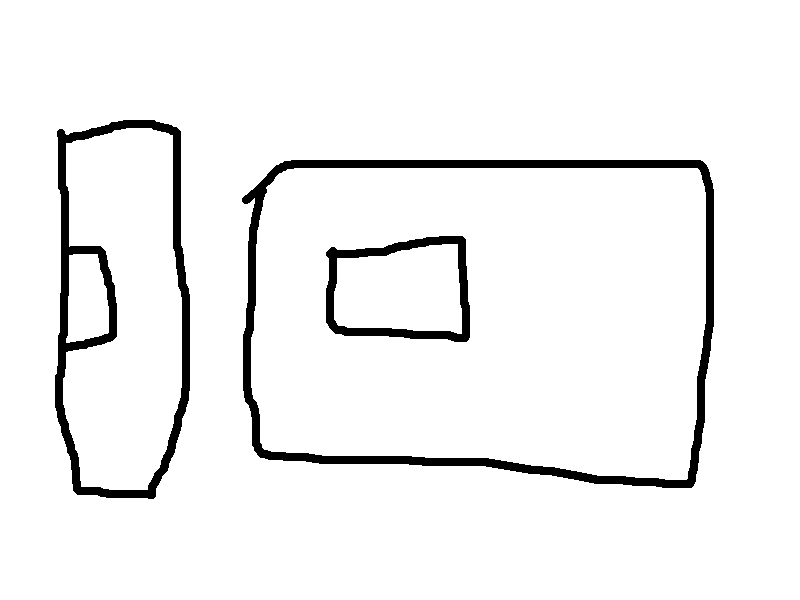dog: (235, 152, 722, 498), (46, 113, 198, 508), (318, 231, 480, 349), (52, 235, 124, 359)
